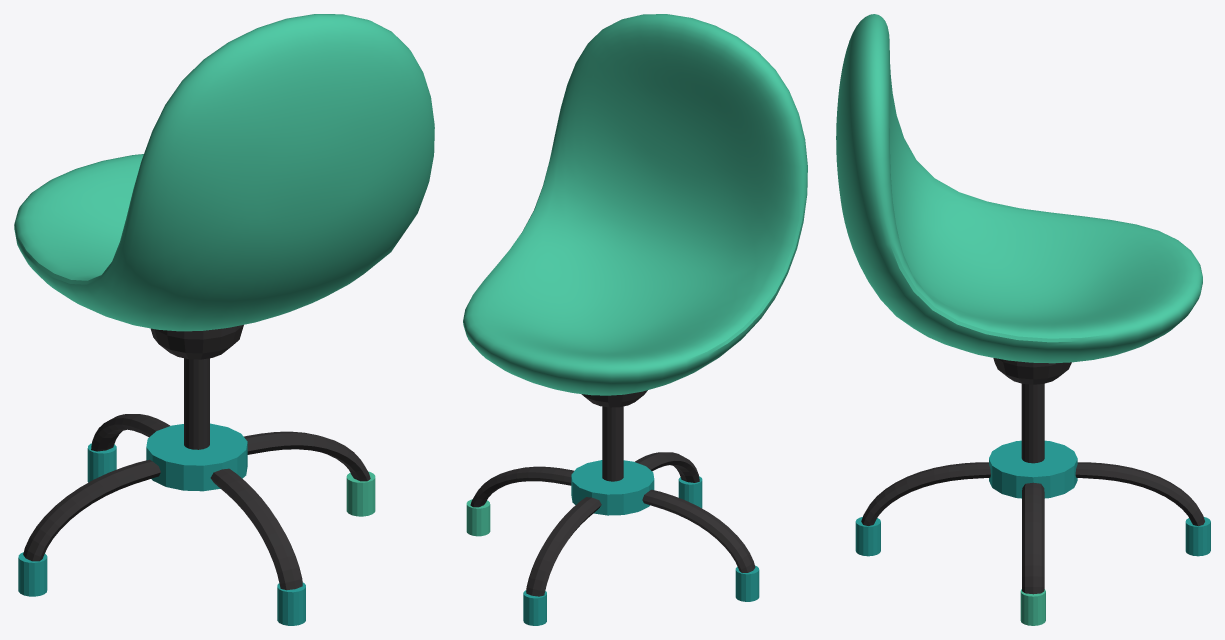
The model's file is a chair .fbx.
3 views of the same model, side by side, from view 1: azimuth 30°, elevation 25°; view 2: azimuth 150°, elevation 25°; view 3: azimuth 270°, elevation 25° (orthographic). The views are drawn at different scales.
Visible parts, largest first — view 1: a chair; view 2: a chair; view 3: a chair.
Part boxes in pixels (x1,y1,x2,y2): a chair: [14, 14, 434, 625]; a chair: [463, 14, 807, 625]; a chair: [836, 14, 1210, 625].
Bounding box in the file's own units: 64.64 × 105 × 68.19.
